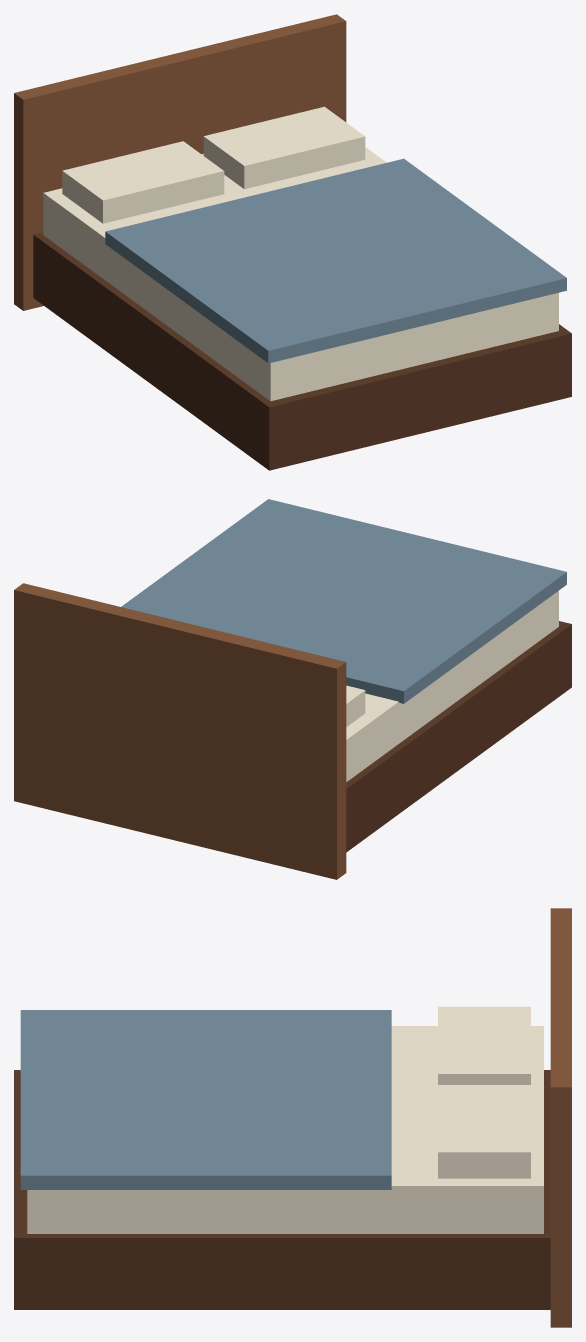
File: parents_bed.glb
3 views of the same model, one above another, from view 1: azimuth 30°, elevation 25°; view 2: azimuth 150°, elevation 25°; view 3: azimuth 270°, elevation 25° (orthographic). The views are drawn at different scales.
Parts seen in each view (by area): view 1: Box3, Box1, Box6, Box2, Box4, Box5; view 2: Box6, Box3, Box1, Box2, Box4; view 3: Box3, Box1, Box2, Box6, Box5, Box4.
Part boxes in pixels (left/top/right/bottom): Box3: left=105, top=158, right=566, bottom=363; Box1: left=33, top=232, right=571, bottom=470; Box6: left=14, top=14, right=346, bottom=310; Box2: left=43, top=147, right=558, bottom=401; Box4: left=62, top=141, right=224, bottom=223; Box5: left=203, top=106, right=365, bottom=189; Box6: left=14, top=583, right=346, bottom=879; Box3: left=121, top=499, right=566, bottom=703; Box1: left=346, top=621, right=571, bottom=852; Box2: left=346, top=590, right=558, bottom=781; Box4: left=346, top=685, right=365, bottom=726; Box3: left=20, top=1010, right=391, bottom=1189; Box1: left=14, top=1070, right=550, bottom=1309; Box2: left=27, top=1026, right=543, bottom=1233; Box6: left=550, top=908, right=571, bottom=1327; Box5: left=438, top=1085, right=530, bottom=1178; Box4: left=438, top=1006, right=530, bottom=1084.
Bounding box in the file's own units: 1.6 × 1 × 2.1.
